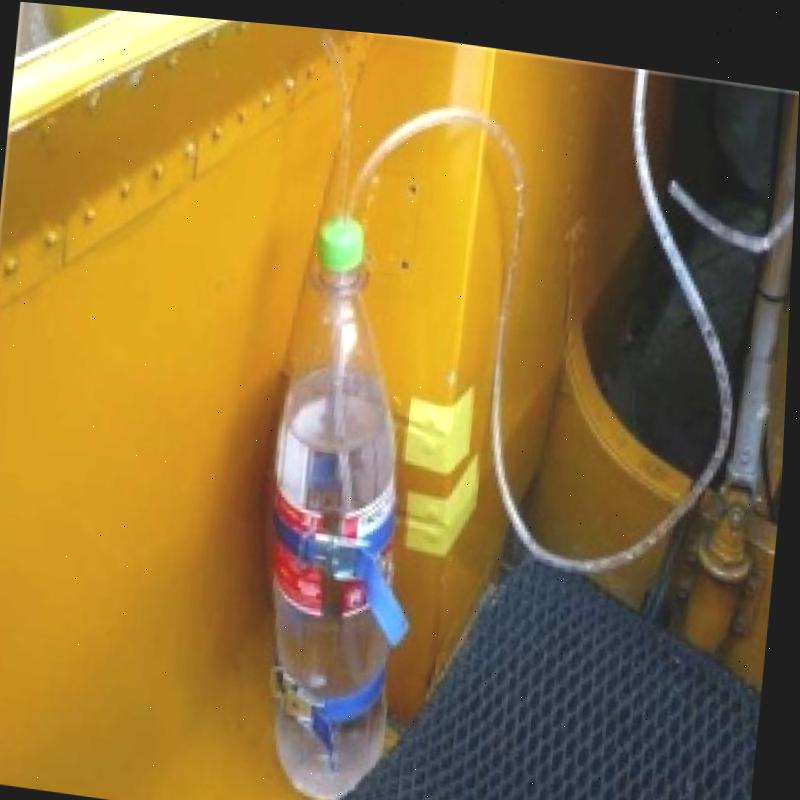botella: (243, 202, 436, 800)
